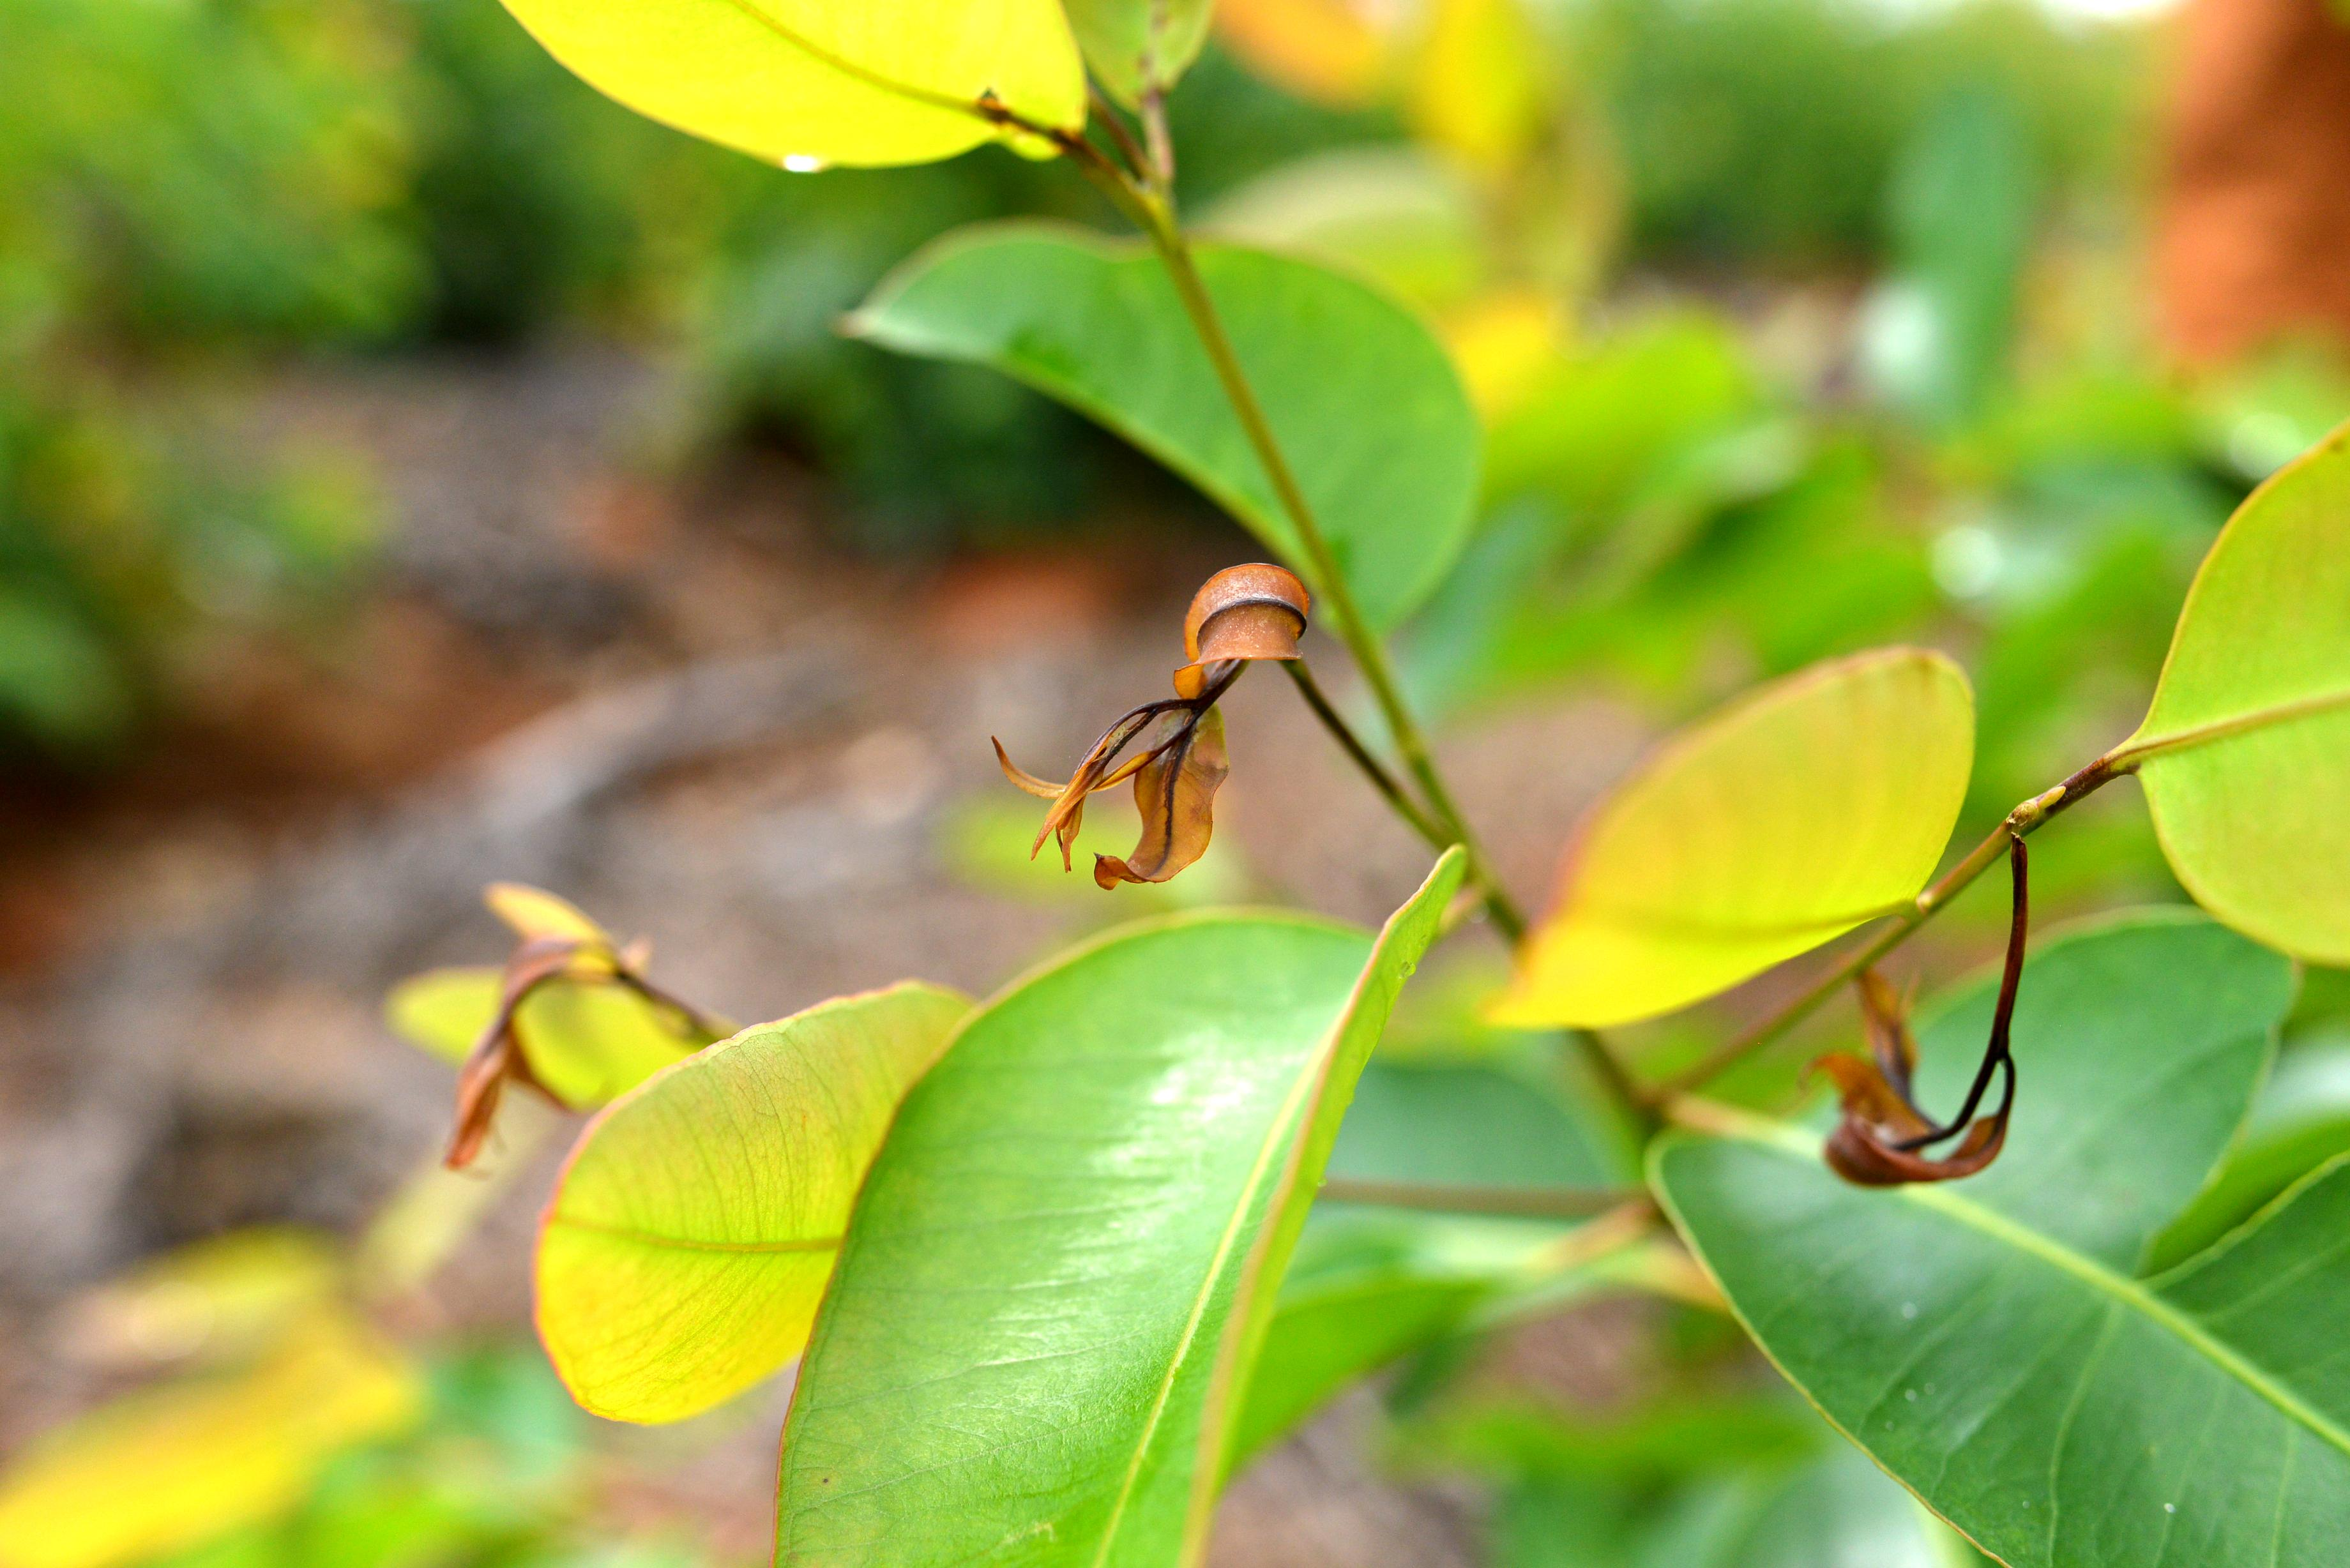Helopeltis-Withered Sprout: (1825, 831, 2030, 1207), (983, 23, 1209, 233), (439, 938, 598, 1178), (1094, 703, 1228, 896), (1174, 565, 1305, 707), (1804, 1053, 1946, 1143), (1850, 971, 1918, 1143), (990, 737, 1157, 800)
